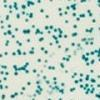Blue_green: (85, 74, 90, 82), (28, 12, 34, 18), (10, 94, 16, 100), (27, 1, 34, 6), (1, 93, 6, 100), (5, 14, 10, 20), (13, 2, 18, 8), (44, 13, 50, 18), (38, 37, 44, 42), (12, 64, 18, 69), (59, 88, 64, 94), (73, 4, 77, 11), (37, 57, 41, 64), (52, 86, 59, 90), (39, 8, 44, 13), (7, 30, 12, 35), (64, 47, 69, 52), (44, 50, 49, 55), (14, 72, 19, 77), (22, 65, 27, 70), (39, 86, 44, 91), (70, 87, 75, 92), (84, 91, 89, 96), (95, 93, 100, 98), (16, 13, 20, 19), (36, 0, 42, 4), (58, 12, 64, 16), (80, 0, 88, 3), (71, 32, 77, 36), (80, 38, 86, 42), (17, 49, 21, 55), (1, 65, 7, 69), (20, 92, 26, 96), (33, 68, 37, 74), (60, 63, 64, 69), (44, 74, 48, 80), (91, 80, 97, 84), (4, 0, 9, 4), (8, 3, 12, 8), (24, 18, 29, 22), (22, 5, 26, 10), (66, 6, 71, 10), (80, 14, 85, 18), (73, 24, 77, 29), (90, 26, 94, 31), (22, 29, 26, 34), (26, 29, 30, 34), (44, 26, 48, 31), (49, 25, 53, 30), (53, 28, 57, 33), (58, 34, 62, 39), (58, 30, 63, 34), (57, 44, 62, 48), (89, 37, 94, 41), (73, 51, 77, 56), (66, 57, 70, 62), (40, 47, 45, 51), (3, 76, 8, 80), (14, 91, 18, 96), (21, 86, 26, 90), (27, 81, 31, 86), (44, 59, 48, 64), (52, 81, 57, 85), (46, 80, 50, 85), (25, 70, 30, 74), (74, 80, 79, 84), (79, 78, 83, 83), (91, 86, 95, 91), (14, 7, 20, 10), (0, 84, 3, 90), (82, 54, 85, 60), (0, 20, 4, 24), (1, 25, 5, 29), (9, 10, 13, 14), (58, 8, 62, 12), (64, 11, 68, 15), (72, 13, 76, 17), (87, 9, 91, 13), (92, 19, 96, 23), (70, 4, 74, 8), (36, 28, 40, 32), (3, 32, 7, 36), (11, 34, 15, 38), (6, 40, 10, 44), (53, 36, 57, 40), (56, 40, 60, 44), (76, 42, 80, 46), (84, 42, 88, 46), (89, 42, 93, 46), (0, 71, 4, 75), (36, 74, 40, 78), (51, 66, 55, 70), (53, 77, 57, 81), (40, 70, 44, 74), (14, 68, 18, 72), (19, 67, 23, 71), (25, 62, 29, 66), (36, 80, 40, 84), (65, 70, 69, 74), (85, 84, 89, 88), (89, 84, 93, 88), (96, 83, 100, 87), (7, 25, 12, 28), (88, 13, 93, 16), (95, 0, 100, 3), (5, 72, 10, 75), (48, 65, 51, 70), (47, 97, 52, 100), (81, 87, 86, 90), (91, 59, 94, 64), (14, 27, 18, 30), (3, 5, 7, 8), (22, 11, 25, 15), (65, 20, 68, 24), (76, 18, 80, 21), (97, 4, 100, 8), (32, 25, 35, 29), (38, 32, 44, 34), (27, 38, 30, 42), (64, 34, 67, 38), (51, 35, 55, 38), (48, 43, 52, 46), (72, 42, 75, 46), (68, 55, 72, 58), (30, 51, 34, 54), (0, 53, 3, 57), (0, 79, 3, 83), (5, 85, 8, 89), (36, 90, 40, 93), (38, 91, 42, 94), (59, 97, 63, 100), (80, 73, 83, 77), (80, 84, 83, 88), (89, 91, 93, 94), (97, 74, 100, 78), (85, 58, 88, 62), (86, 53, 90, 56), (91, 52, 94, 56), (94, 50, 98, 53), (97, 52, 100, 56), (97, 48, 100, 52), (44, 64, 46, 69), (85, 29, 88, 32), (97, 27, 100, 30), (16, 40, 19, 43), (19, 43, 22, 46), (62, 57, 65, 60), (23, 52, 26, 55), (13, 52, 16, 55), (5, 52, 8, 55), (37, 85, 40, 88), (71, 75, 74, 78), (86, 63, 89, 66), (88, 30, 92, 32), (4, 44, 8, 46), (32, 98, 36, 100), (62, 82, 64, 86), (86, 88, 90, 90), (90, 70, 94, 72), (36, 32, 38, 35), (58, 28, 61, 30), (32, 47, 34, 50), (75, 72, 77, 75), (48, 32, 50, 34)
